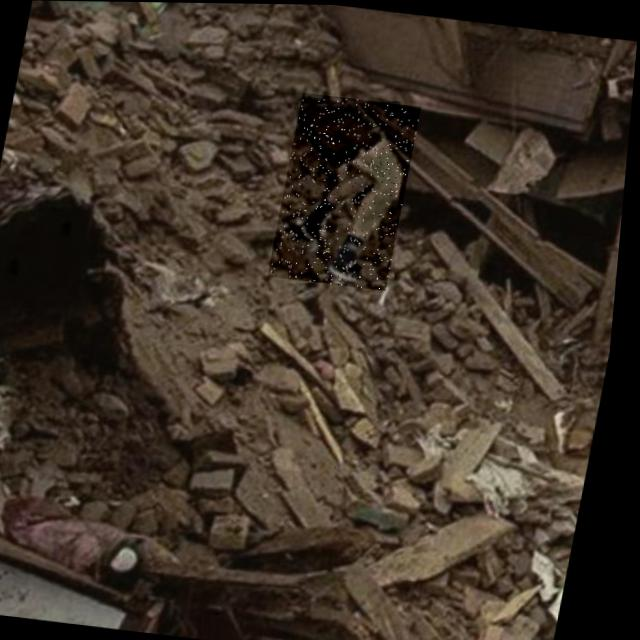Person in Rubble: (271, 91, 423, 289)
